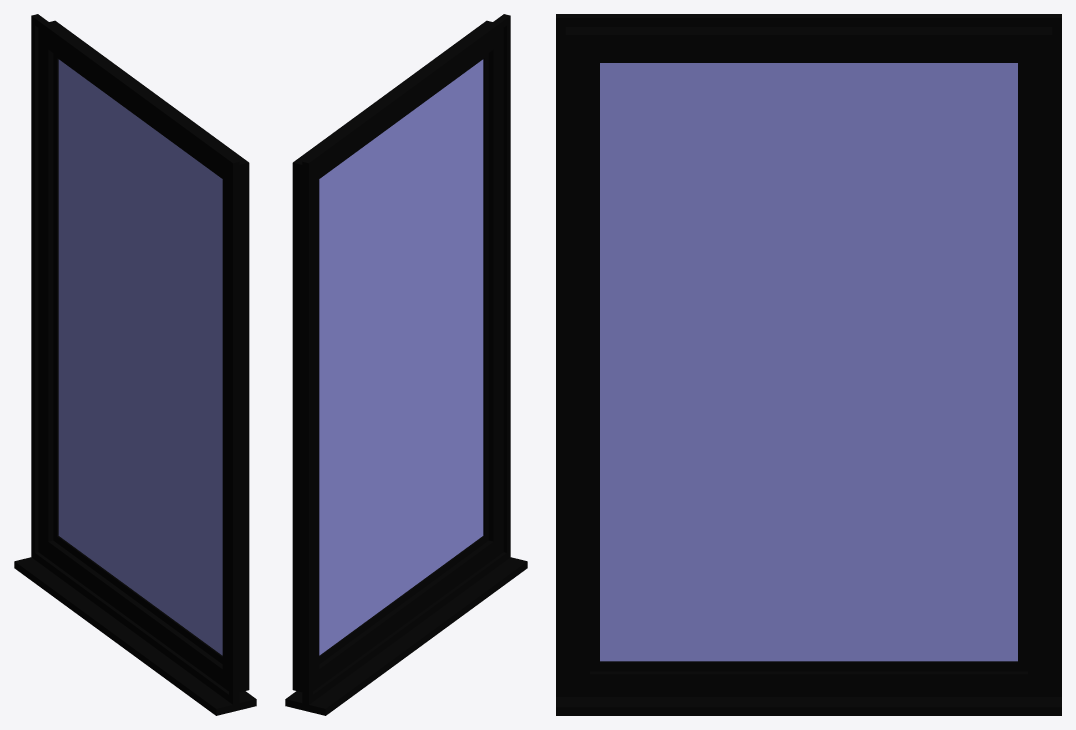
File: panelwindow.fbx
The picture shows the model from 3 angles, left to right: view 1: azimuth 30°, elevation 25°; view 2: azimuth 150°, elevation 25°; view 3: azimuth 270°, elevation 25°; orthographic projection. The views are drawn at different scales.
Parts seen in each view (by area): view 1: panelwindow; view 2: panelwindow; view 3: panelwindow.
Boxes of the visible parts, x1=… form: panelwindow: x1=14, y1=14, x2=256, y2=715; panelwindow: x1=285, y1=14, x2=527, y2=715; panelwindow: x1=556, y1=14, x2=1061, y2=715.
Size of the model in its own units: 12 by 156 by 104.
